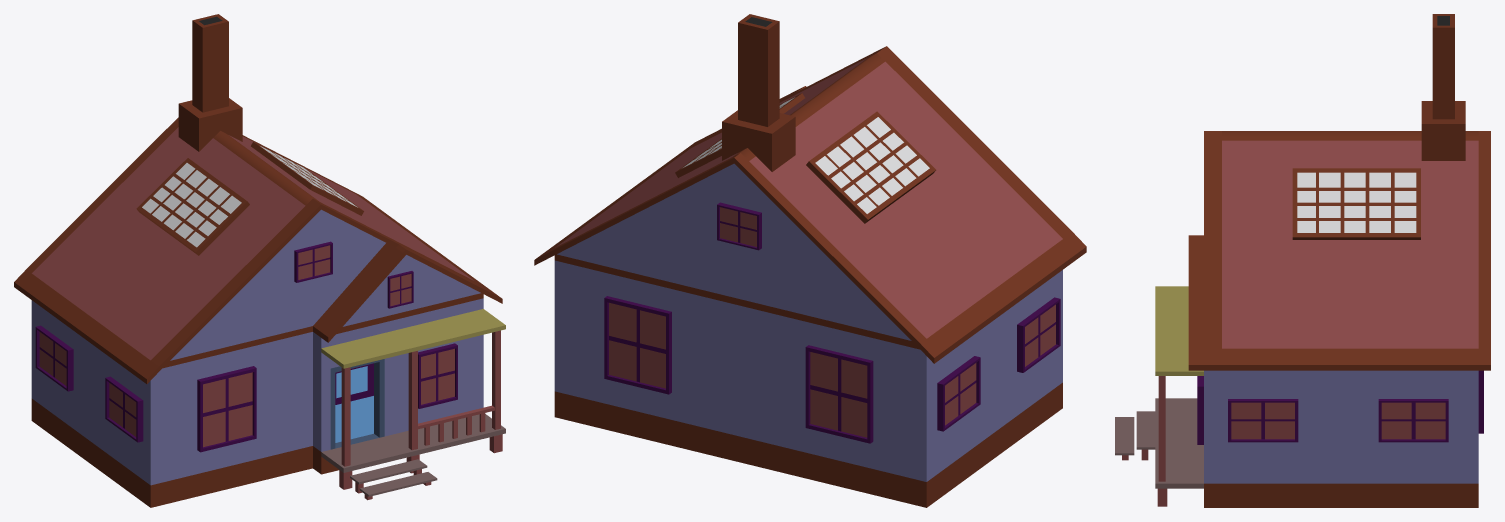
File: house1b.FBX
3 views of the same model, side by side, from view 1: azimuth 30°, elevation 25°; view 2: azimuth 150°, elevation 25°; view 3: azimuth 270°, elevation 25° (orthographic). The views are drawn at different scales.
Visible parts, largest first — view 1: house1b; view 2: house1b; view 3: house1b.
Part boxes in pixels (box(x1,y1,x2,y2)): house1b: box(14, 14, 505, 507); house1b: box(534, 14, 1086, 507); house1b: box(1115, 14, 1490, 507).
Bounding box in the file's own units: 25.63 × 26.14 × 22.16.
